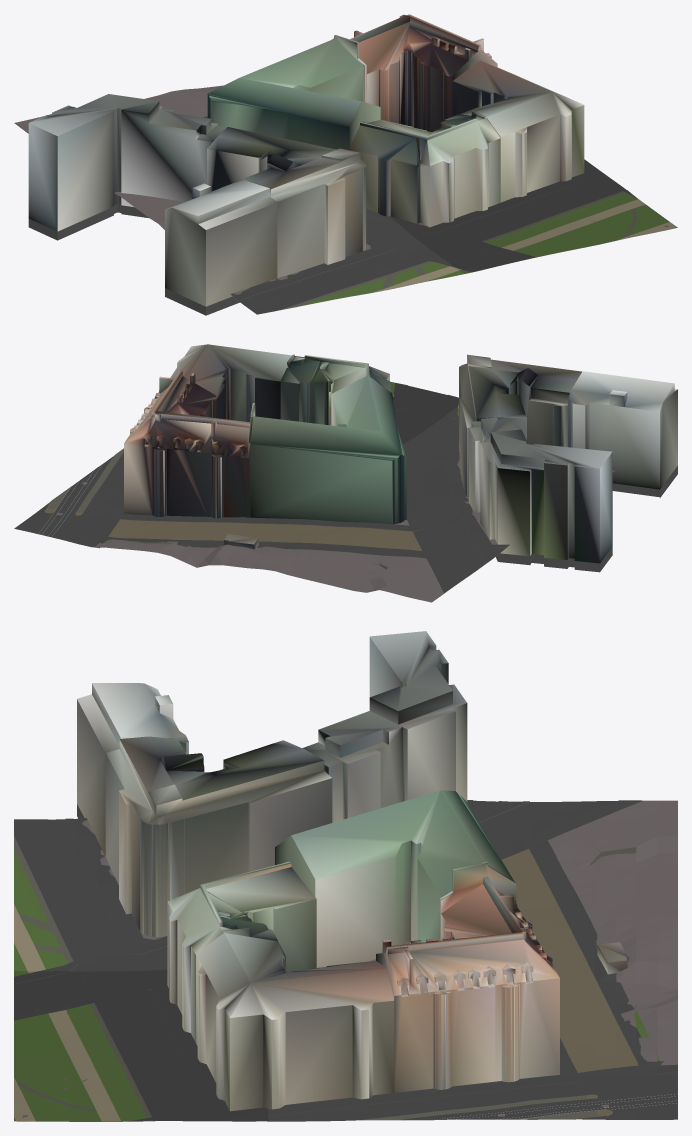
3 views of the same model, one above another, from view 1: azimuth 30°, elevation 25°; view 2: azimuth 150°, elevation 25°; view 3: azimuth 270°, elevation 25° (orthographic). The views are drawn at different scales.
Visible parts, largest first — view 1: c_m11_m08, append:c_m11_m08, append2:c_m11_m08; view 2: c_m11_m08, append2:c_m11_m08, append:c_m11_m08; view 3: c_m11_m08, append2:c_m11_m08, append:c_m11_m08.
Boxes of the visible parts, x1,y1,x2,y2 form: c_m11_m08: [28, 14, 677, 315]; append:c_m11_m08: [164, 208, 463, 314]; append2:c_m11_m08: [14, 85, 223, 229]; c_m11_m08: [38, 344, 677, 572]; append2:c_m11_m08: [14, 448, 509, 602]; append:c_m11_m08: [403, 406, 615, 478]; c_m11_m08: [14, 631, 677, 1121]; append2:c_m11_m08: [268, 800, 677, 1121]; append:c_m11_m08: [14, 818, 167, 971].
Size of the model in its own units: 152 by 34.3 by 128.
